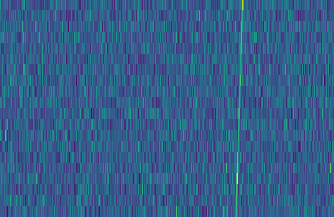signal: (232, 0, 248, 217)
